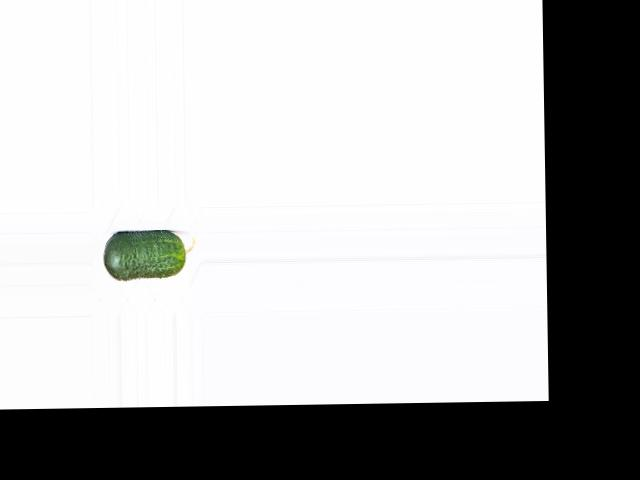cucumber: (103, 230, 195, 280)
